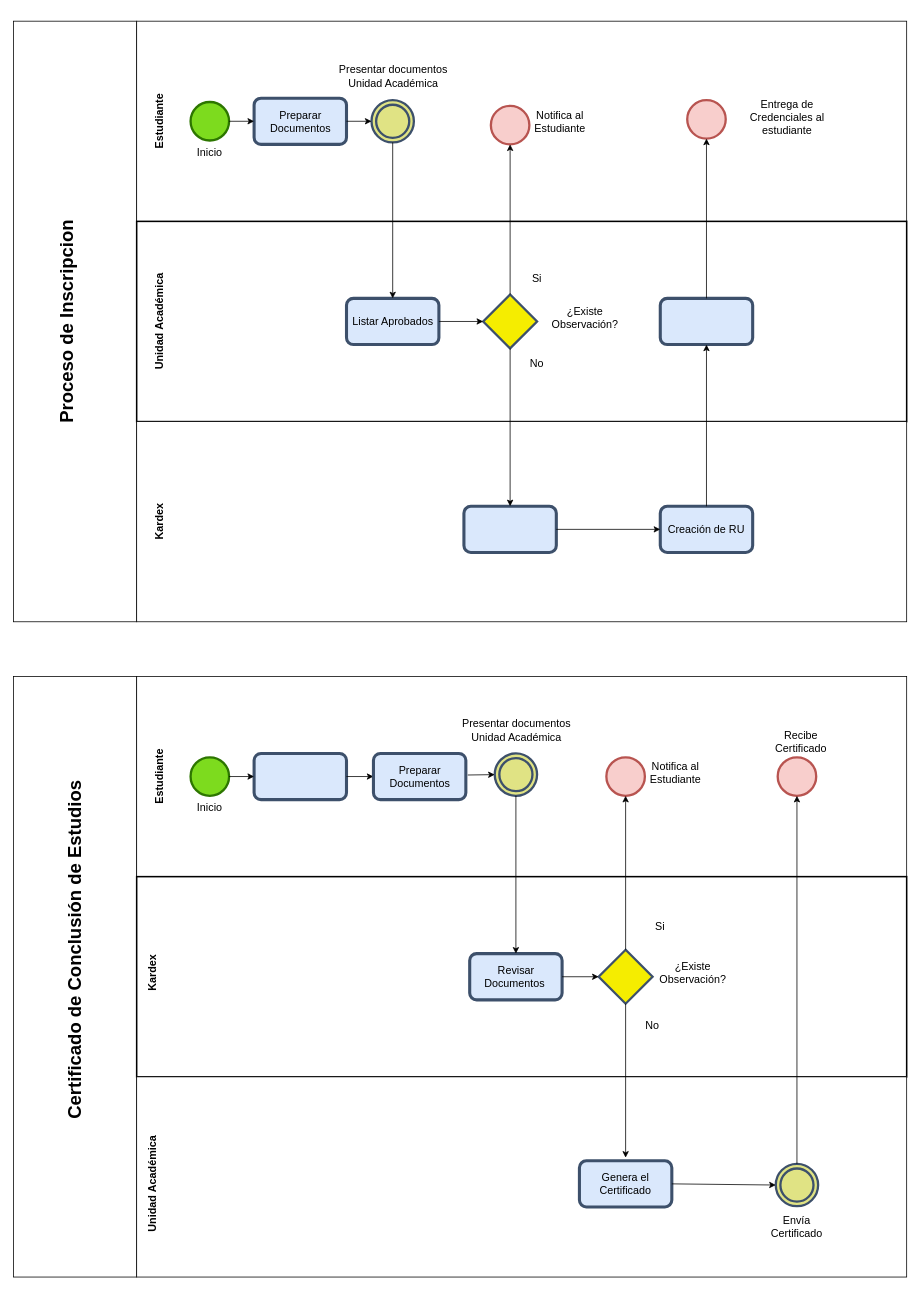
Some shapes in this 921 by 1304 pixel diagram are drawn without their labels. Here are the shapes that lost their labels. From the top down, the centre of each, then its label:
[706,321]: Agregar a la lista de Inscritos
[509,529]: Registro de Datos
[300,776]: Realizar Pago por Certificado
